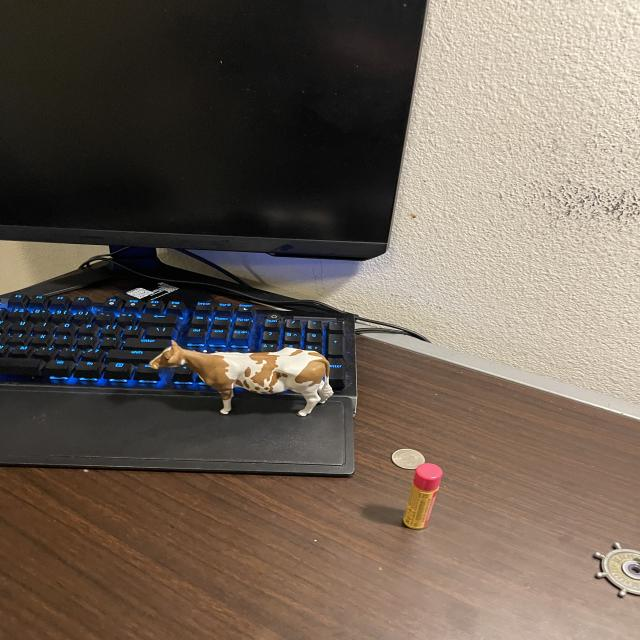cow: (146, 339, 336, 422)
